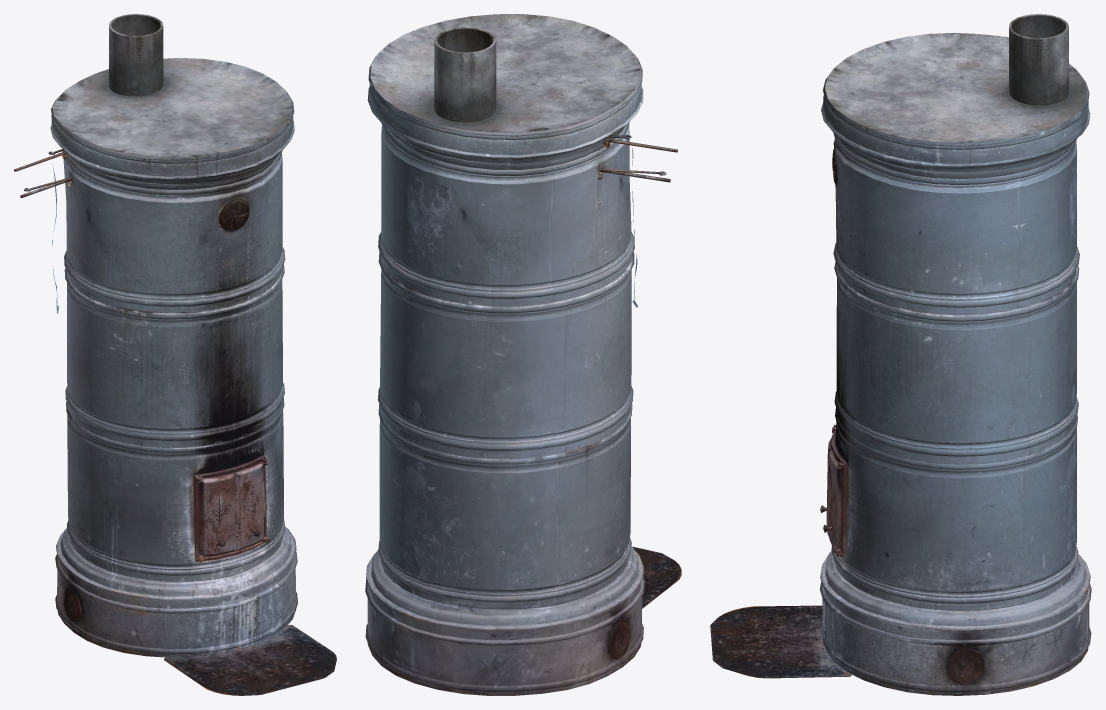
The model's file is scandinavian_masonry_heater.glb.
The picture shows the model from 3 angles, left to right: view 1: azimuth 30°, elevation 25°; view 2: azimuth 150°, elevation 25°; view 3: azimuth 270°, elevation 25°; orthographic projection. The views are drawn at different scales.
Parts seen in each view (by area): view 1: scandinavian_masonry_heater; view 2: scandinavian_masonry_heater; view 3: scandinavian_masonry_heater.
Part boxes in pixels (x1=…): scandinavian_masonry_heater: x1=14, y1=14, x2=336, y2=695; scandinavian_masonry_heater: x1=365, y1=14, x2=681, y2=695; scandinavian_masonry_heater: x1=710, y1=14, x2=1091, y2=695.
Bounding box in the file's own units: 1.17 × 2.36 × 1.33.
Materials: 1 (1 with a texture image).
